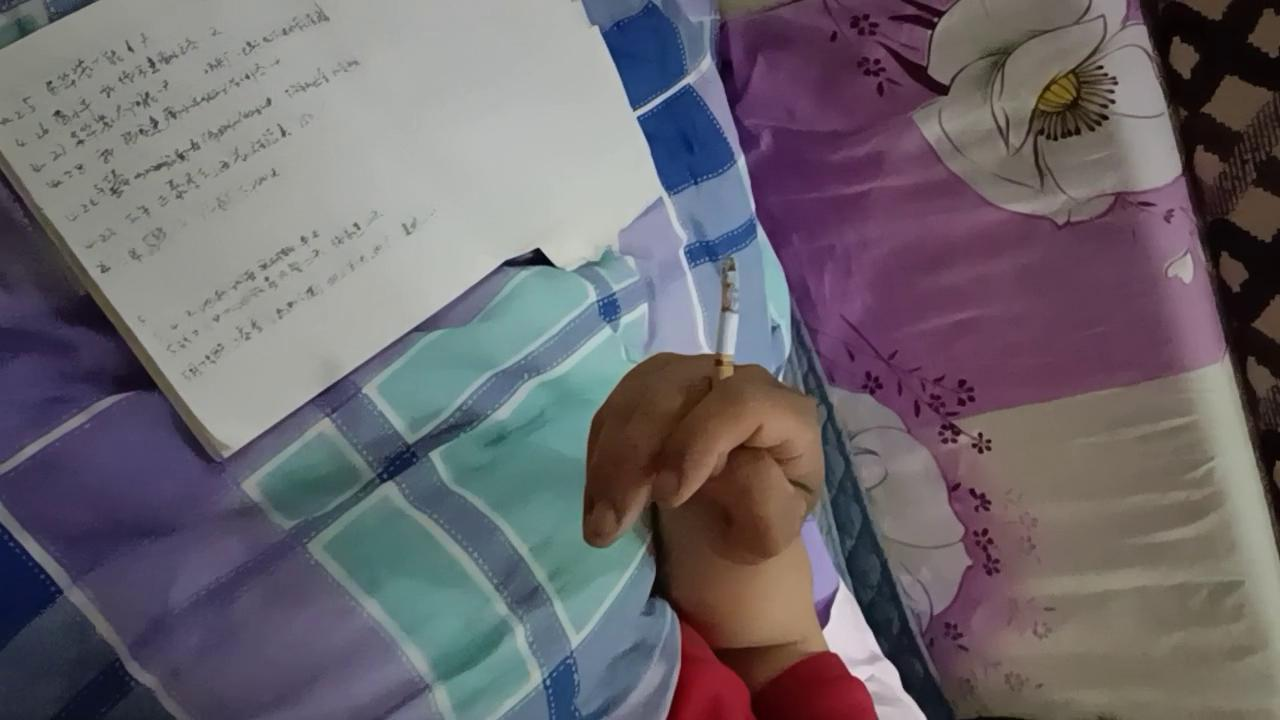smoke: (709, 258, 740, 423)
